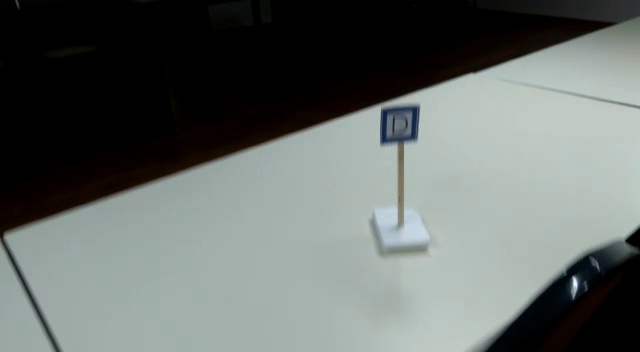durak: (380, 105, 416, 145)
